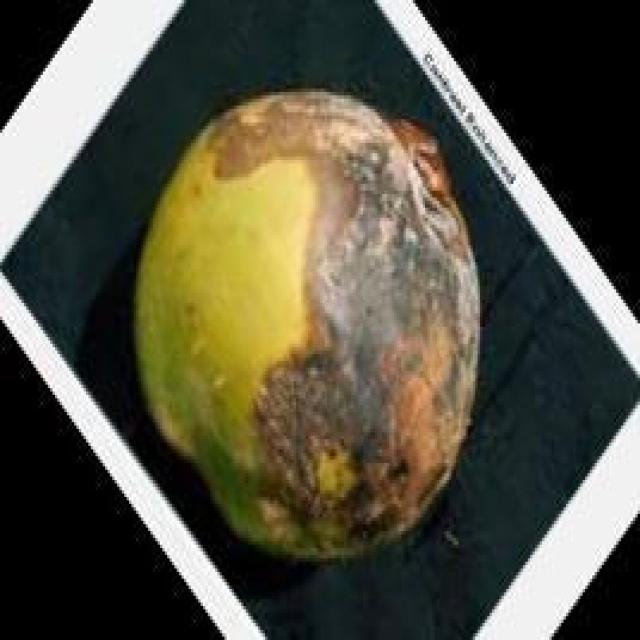damaged: (134, 89, 478, 558)
